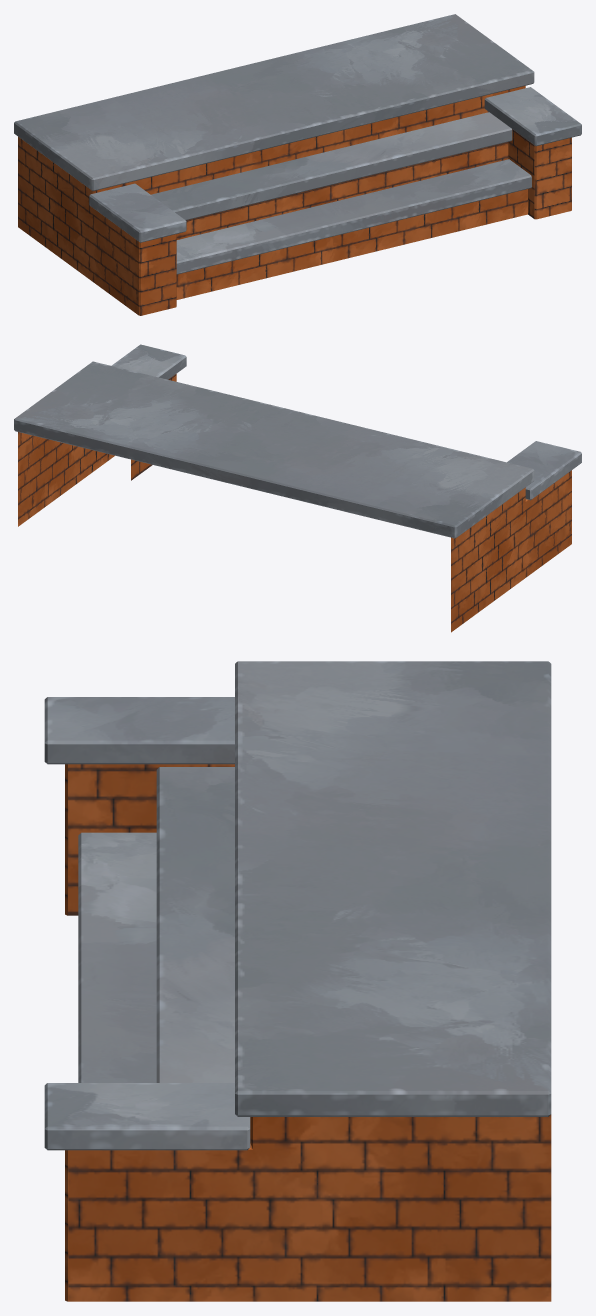
Rendered from Ladder.fbx.
3 renders of one model, top to bottom at view 1: azimuth 30°, elevation 25°; view 2: azimuth 150°, elevation 25°; view 3: azimuth 270°, elevation 25°, orthographic. The views are drawn at different scales.
Parts seen in each view (by area): view 1: Ladder; view 2: Ladder; view 3: Ladder.
Boxes of the visible parts, x1,y1,x2,y2 form: Ladder: [14, 14, 581, 315]; Ladder: [14, 344, 581, 632]; Ladder: [44, 661, 551, 1301].
Bounding box in the file's own units: 173 × 40.08 × 85.85.
